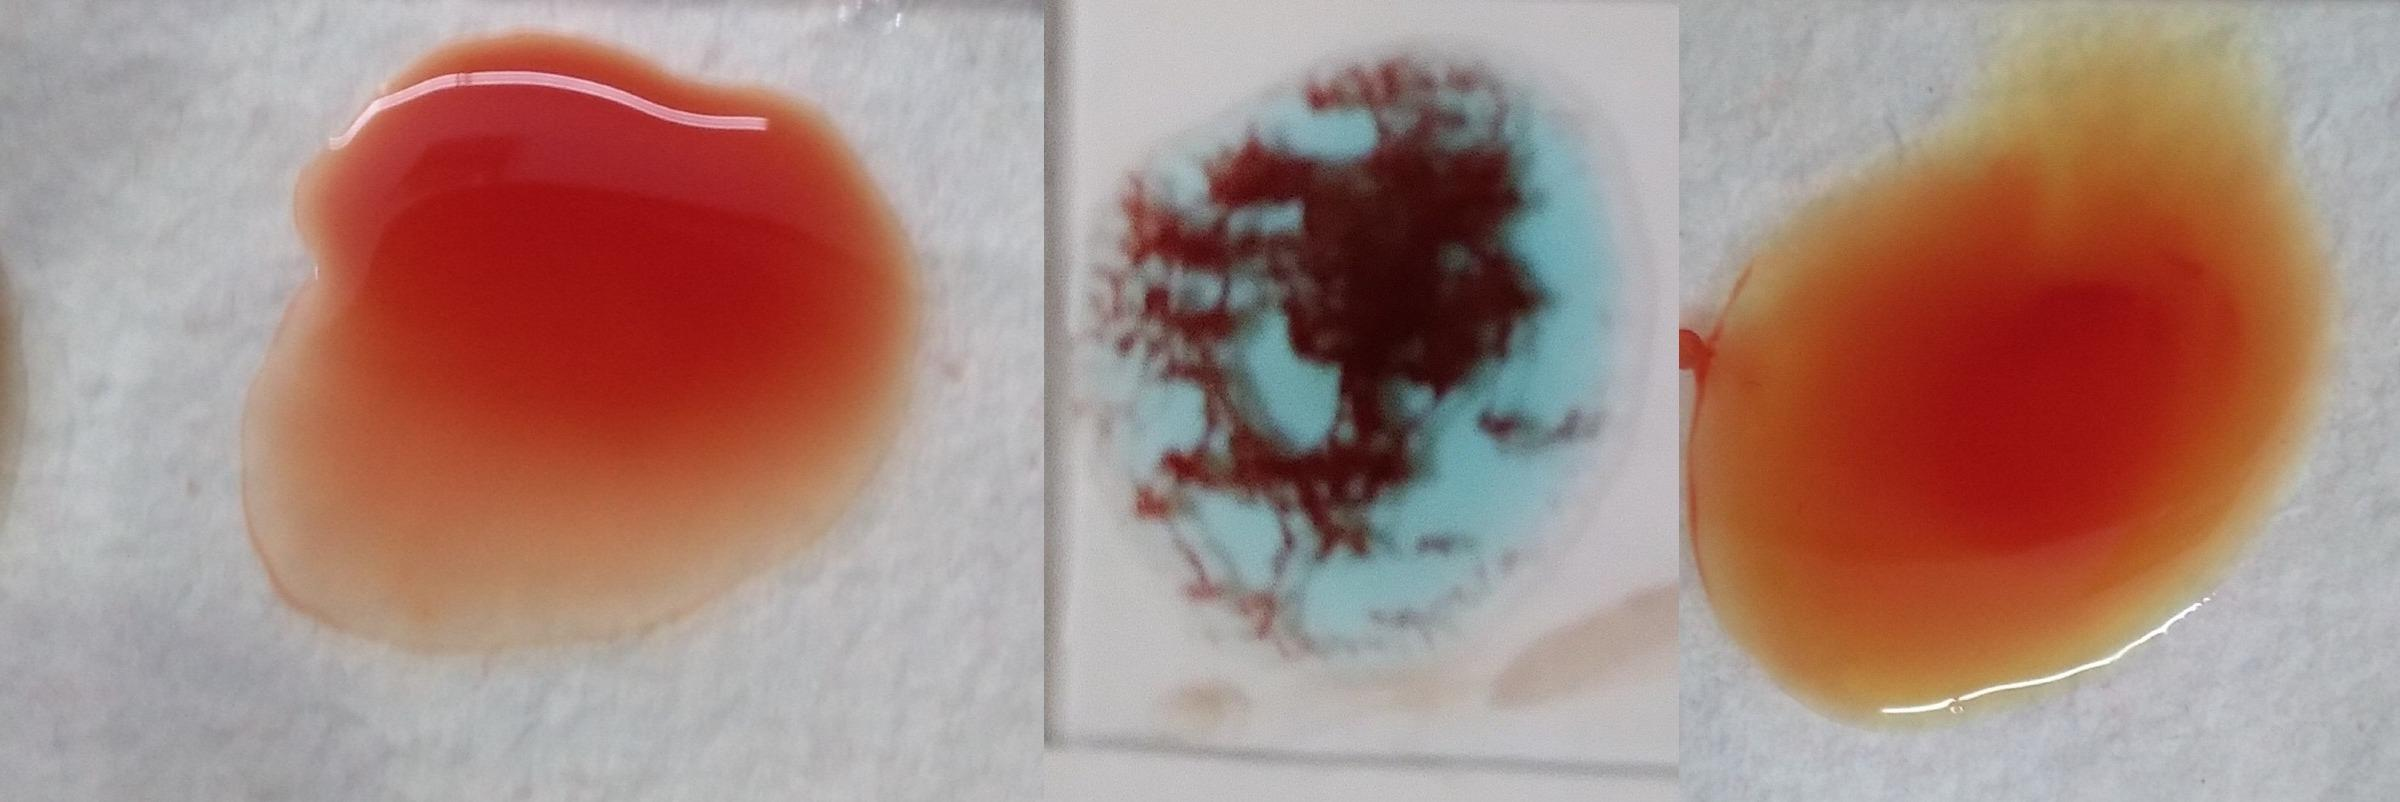A: (1090, 31, 1581, 658)
